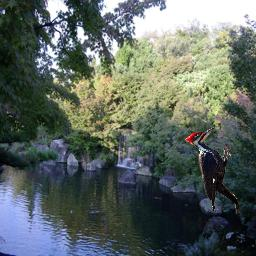Woodpecker: (184, 126, 241, 214)
